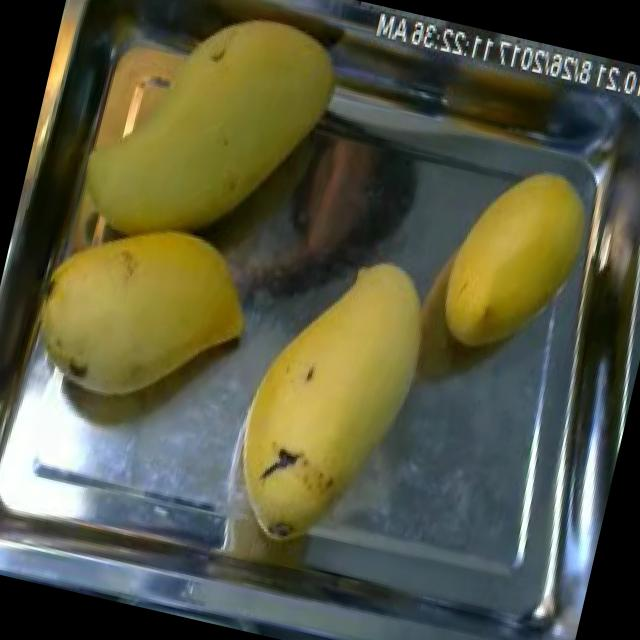fruit: (48, 0, 361, 283), (8, 188, 280, 444), (224, 229, 456, 504), (414, 142, 604, 380)
